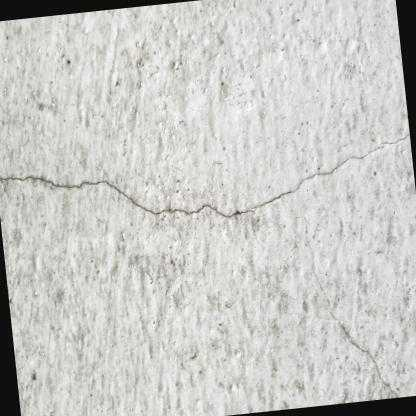crack: (0, 132, 410, 218)
